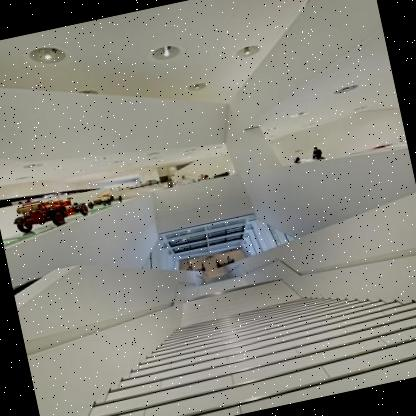stair: (81, 237, 414, 416)
